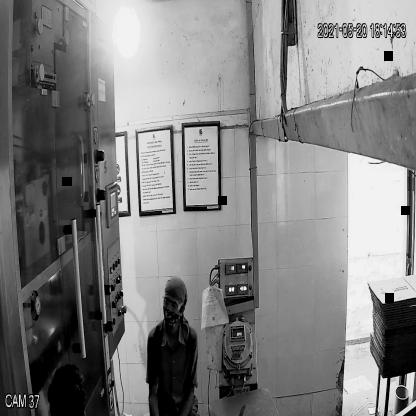goggles: (161, 292, 184, 314)
